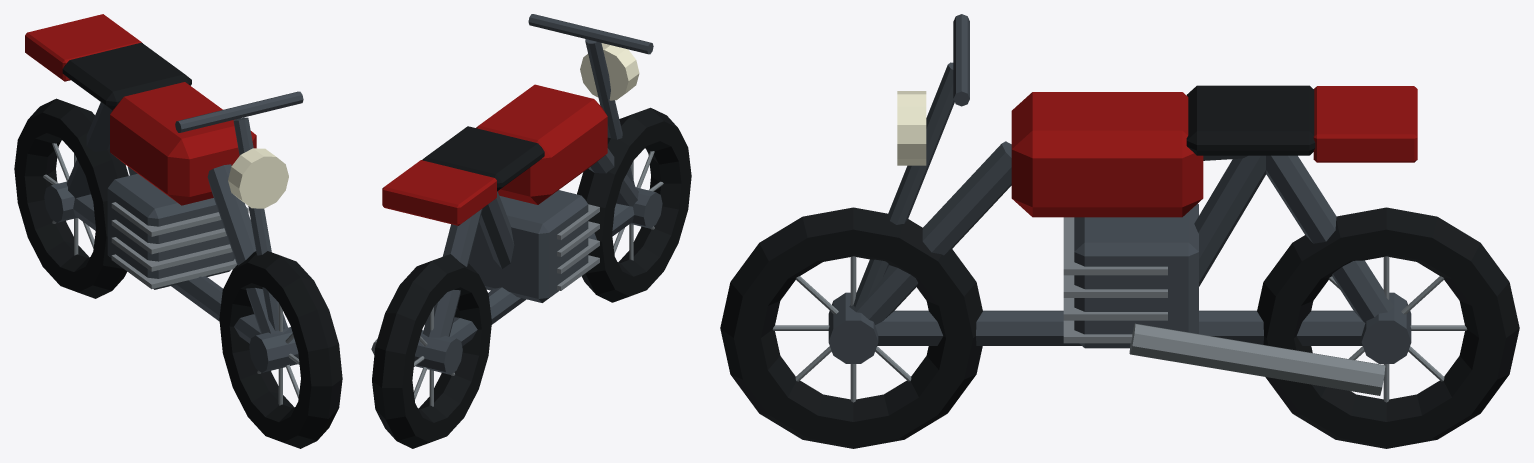
Rendered from OverturnedMotorcycle.fbx.
The picture shows the model from 3 angles, left to right: view 1: azimuth 30°, elevation 25°; view 2: azimuth 150°, elevation 25°; view 3: azimuth 270°, elevation 25°; orthographic projection. The views are drawn at different scales.
Parts seen in each view (by area): view 1: OverturnedMotorcycle; view 2: OverturnedMotorcycle; view 3: OverturnedMotorcycle.
Part boxes in pixels (x1,y1,x2,y2): OverturnedMotorcycle: [14, 14, 342, 448]; OverturnedMotorcycle: [371, 14, 691, 448]; OverturnedMotorcycle: [720, 14, 1519, 448].
Bounding box in the file's own units: 45 × 105 × 192.
Materials: 1 (1 with a texture image).
